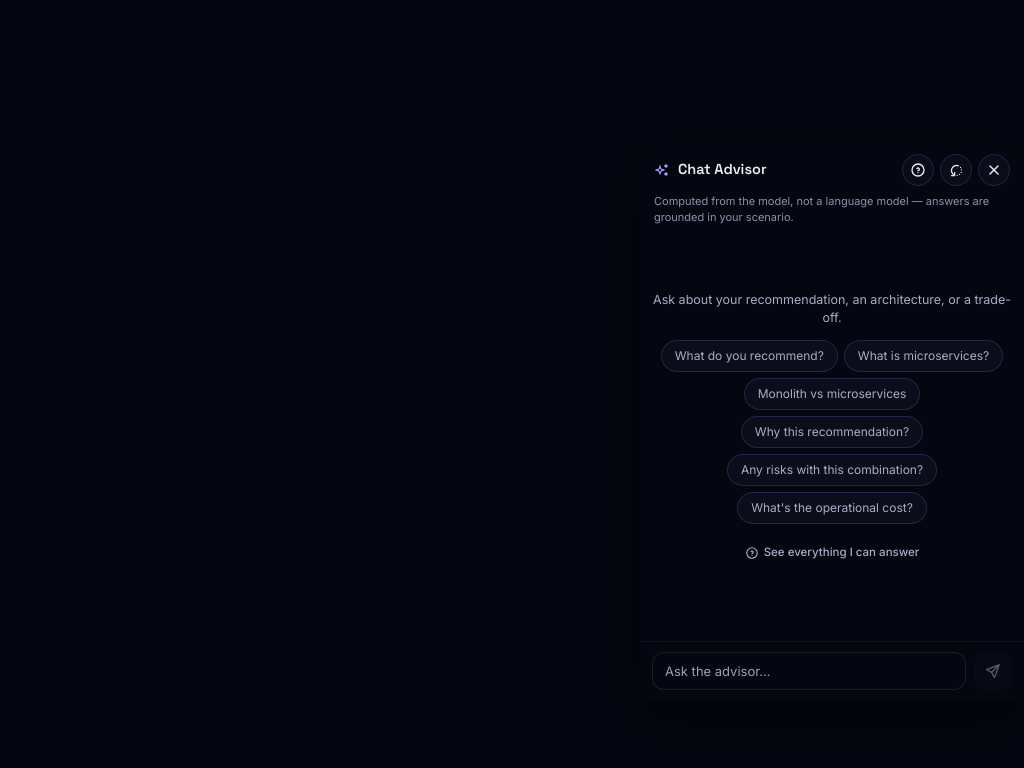
Test: ChatPanel — the capability browser is discoverable without prior knowledge › closes the browser after asking, so the answer is what the user lands on
Click the button "See everything I can answer" at (832, 553), box x1=652 y1=536 x2=1012 y2=570
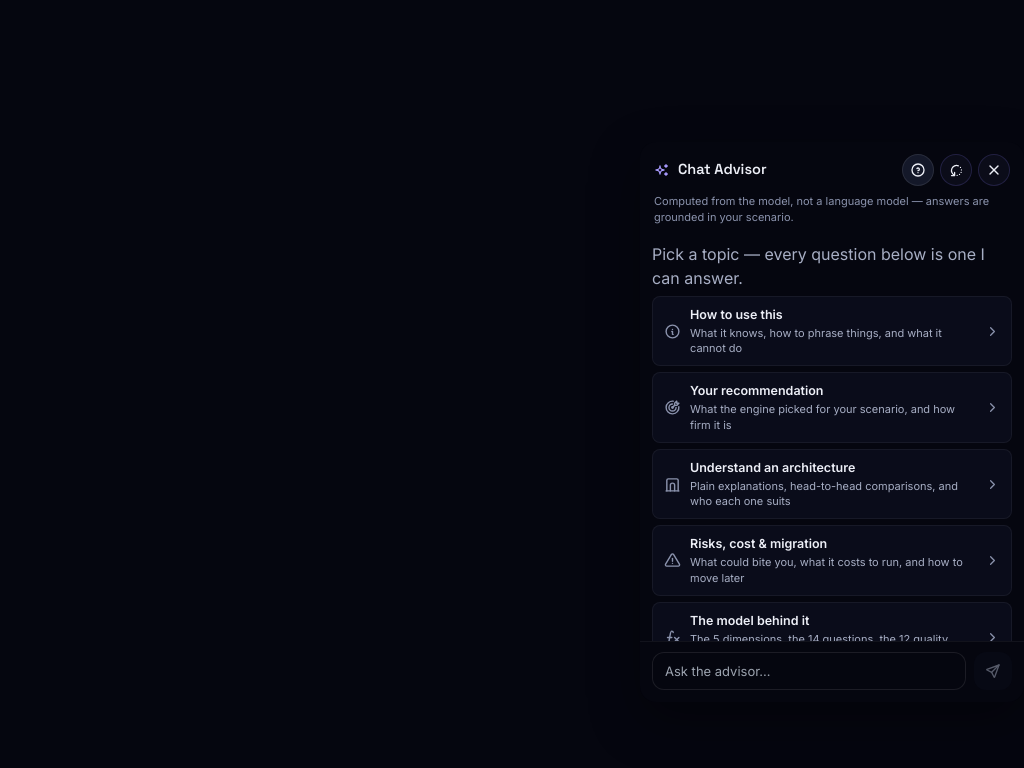
Click the text "Your recommendation" at (757, 391), box x1=690 y1=383 x2=824 y2=398
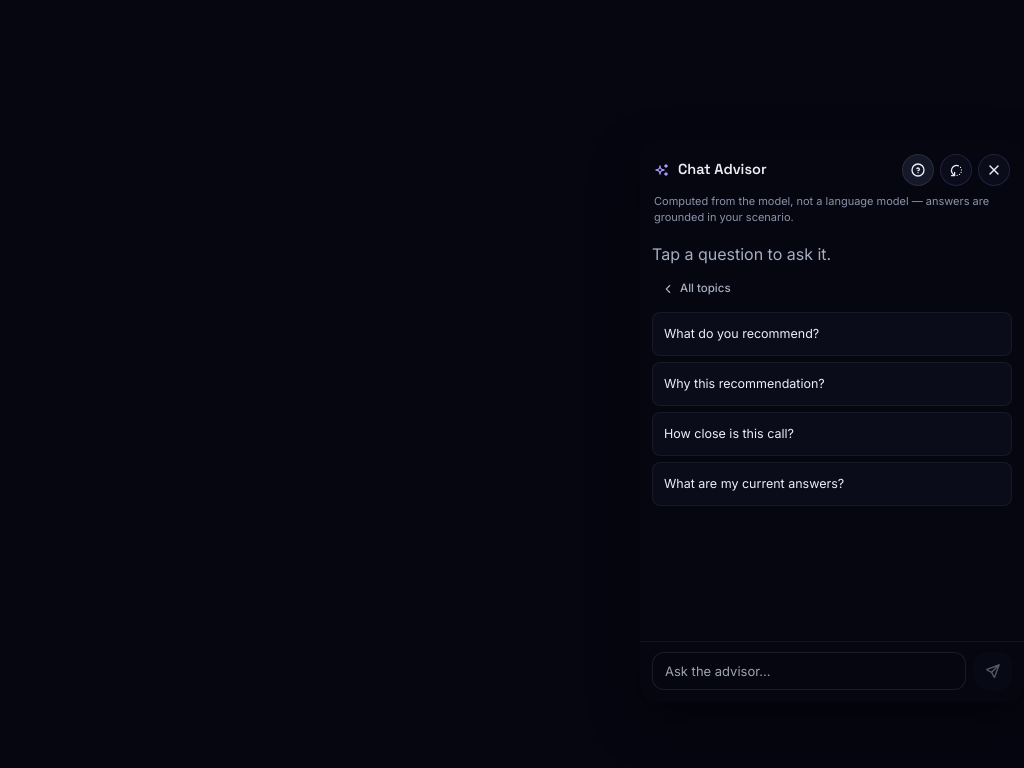
Now the button with class "aa-chat-ask" showing "What do you recommend?" is shown
Click the button "What do you recommend?" at (742, 333), box x1=652 y1=312 x2=1012 y2=356
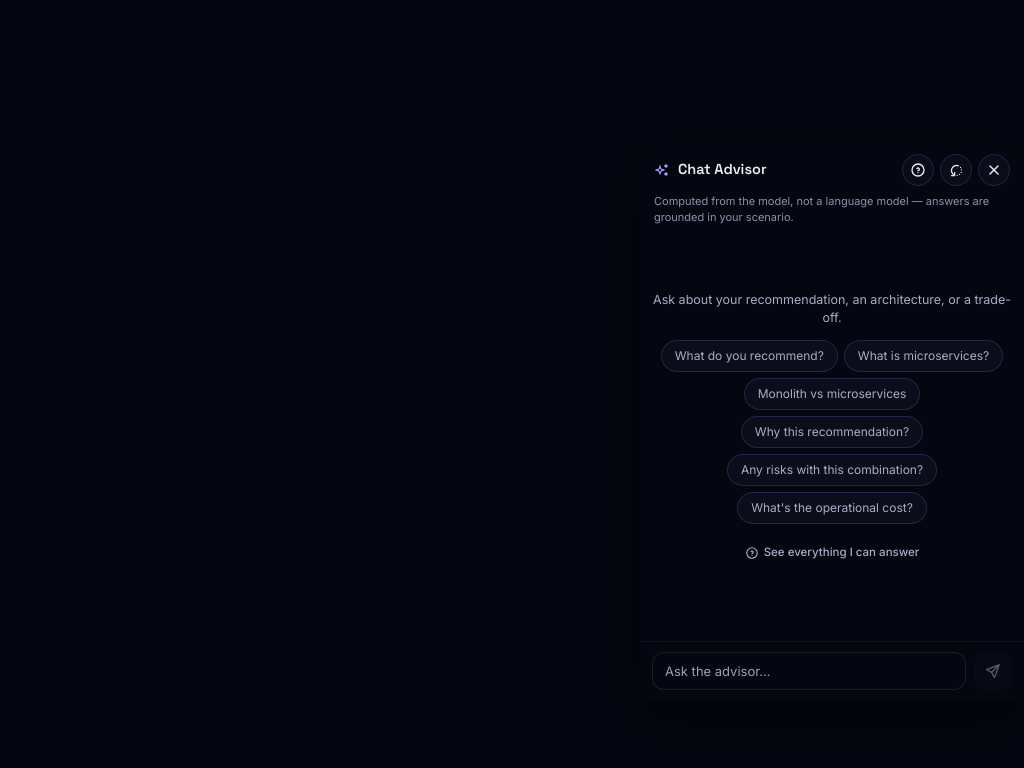
Now no buttons with class "aa-chat-ask" are shown
Now the button "All topics" is gone
